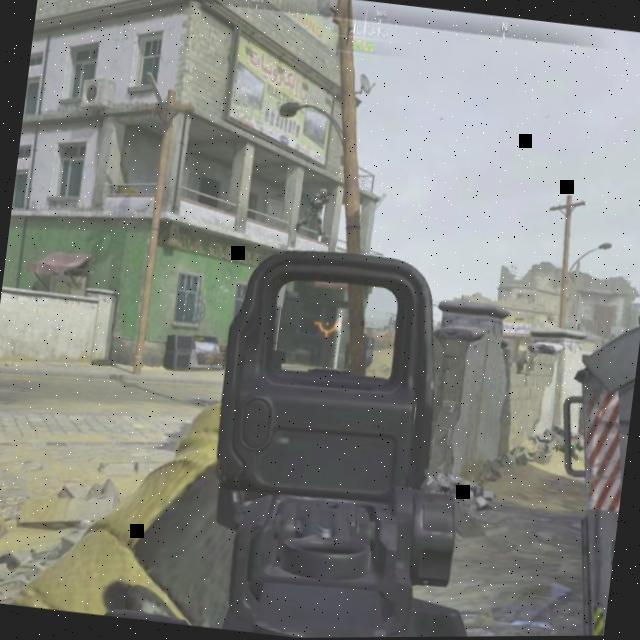MW2_body: (295, 186, 331, 237)
